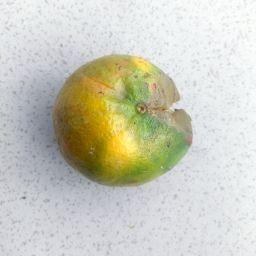orange: (52, 52, 195, 189)
